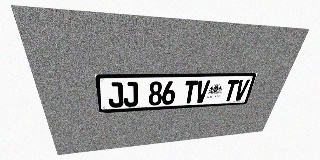6: (162, 81, 177, 105)
8: (148, 81, 163, 106)
J: (107, 82, 123, 108), (123, 82, 138, 107)
T: (182, 80, 198, 104), (223, 80, 239, 101)
V: (233, 79, 250, 101), (194, 80, 210, 103)
